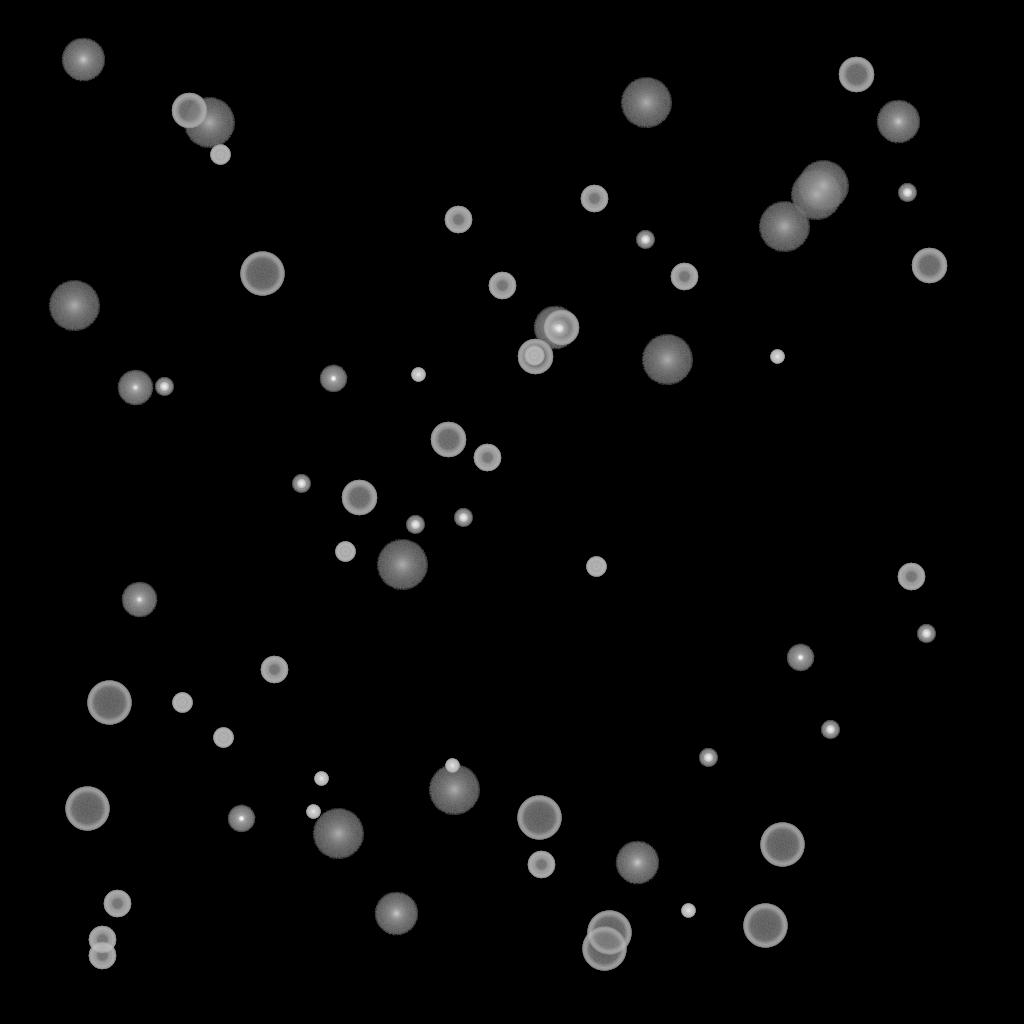depth:-10: (227, 805, 255, 833), (786, 644, 814, 672), (319, 365, 347, 393)
depth:-20: (699, 749, 717, 767), (821, 721, 839, 739), (406, 516, 424, 534), (454, 509, 472, 527), (898, 184, 916, 202), (292, 475, 310, 493), (917, 625, 935, 643), (636, 231, 654, 249), (155, 378, 173, 396), (550, 320, 568, 338)
depth:-30: (770, 350, 784, 364), (314, 772, 328, 786), (411, 368, 425, 382), (306, 805, 320, 819), (445, 759, 459, 773), (681, 904, 695, 918)
depth:-40: (210, 145, 230, 165), (586, 557, 606, 577), (213, 728, 233, 748), (172, 693, 192, 713), (335, 542, 355, 562), (524, 346, 544, 366)
depth:-50: (897, 563, 925, 591), (444, 206, 472, 234), (580, 185, 608, 213), (88, 926, 116, 954), (488, 272, 516, 300), (103, 890, 131, 918), (670, 263, 698, 291), (260, 656, 288, 684), (473, 444, 501, 472), (527, 851, 555, 879), (88, 942, 116, 970)
depth:-60: (838, 57, 874, 93), (171, 93, 207, 129), (341, 480, 377, 516), (517, 339, 553, 375), (911, 248, 947, 284), (430, 422, 466, 458), (543, 310, 579, 346)
depth:-70: (65, 787, 109, 831), (743, 904, 787, 948), (582, 927, 626, 971), (240, 252, 284, 296), (517, 796, 561, 840), (760, 823, 804, 867), (587, 911, 631, 955), (87, 681, 131, 725)
depth:0: (117, 370, 153, 406), (121, 582, 157, 618)
depth:10: (533, 306, 577, 350), (61, 38, 105, 82), (615, 841, 659, 885), (374, 892, 418, 936), (876, 100, 920, 144)
depth:20: (183, 98, 235, 148), (48, 281, 100, 331), (312, 809, 364, 859), (620, 78, 672, 128), (758, 202, 810, 252), (428, 765, 480, 815), (641, 335, 693, 385), (790, 170, 842, 220), (376, 540, 428, 590), (797, 161, 849, 211)
